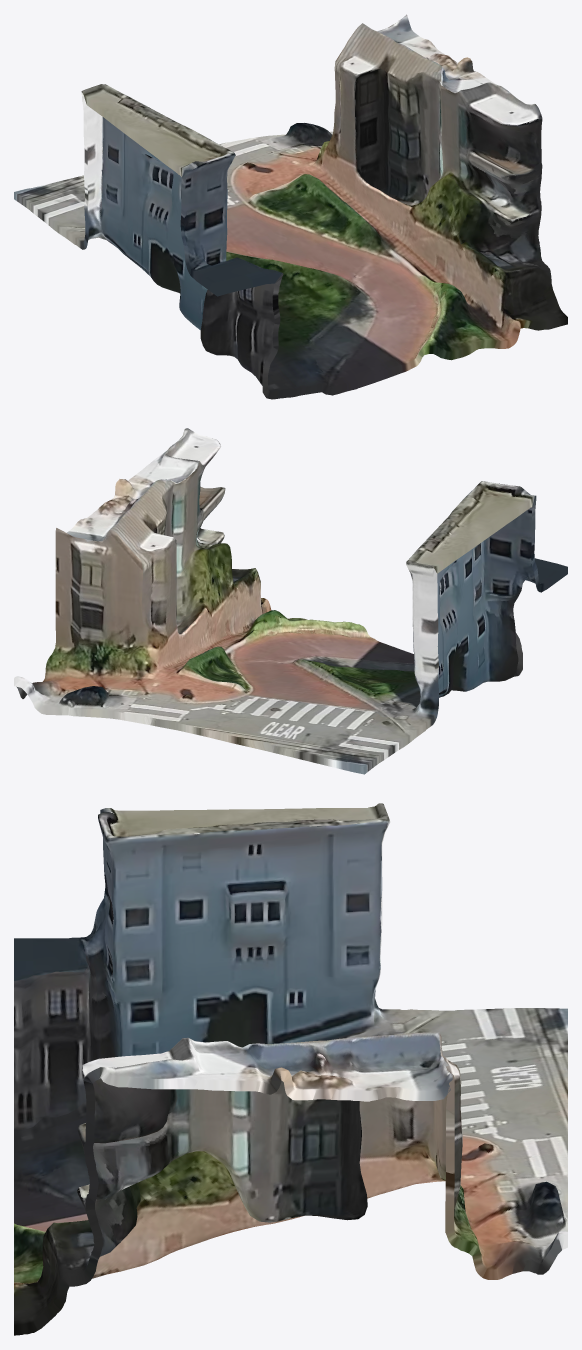
File: z20-167715-405196-h0-yup-uvflip-v3-world.glb
3 views of the same model, one above another, from view 1: azimuth 30°, elevation 25°; view 2: azimuth 150°, elevation 25°; view 3: azimuth 270°, elevation 25° (orthographic). The views are drawn at different scales.
Bounding box in the file's own units: 30.16 × 19.24 × 30.32.
1 material, 1 textured.
